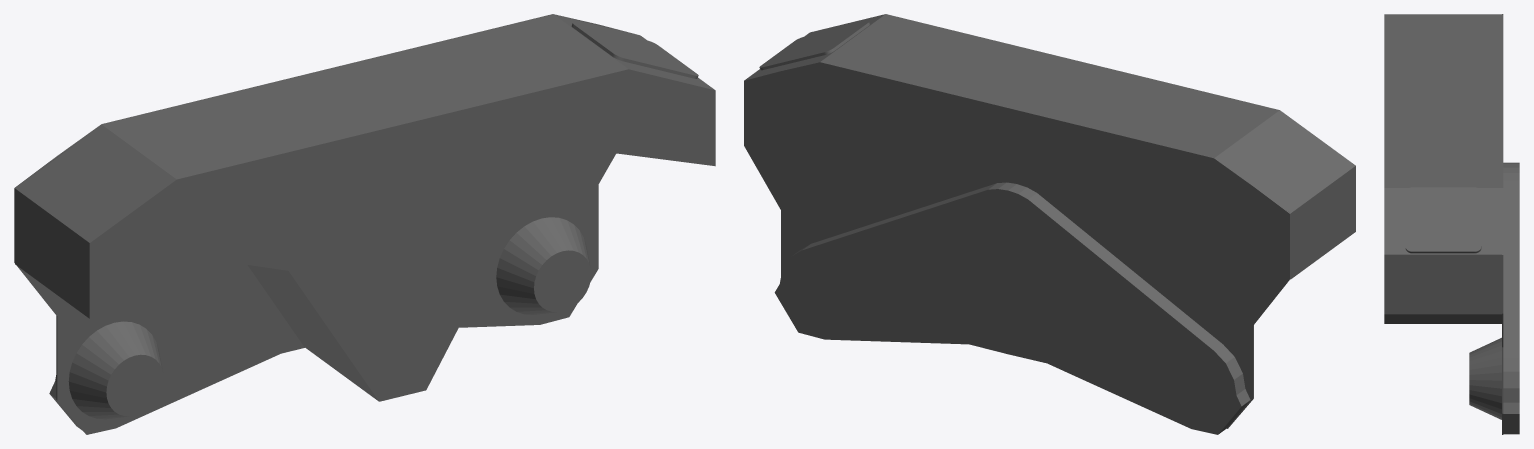
Rendered from WHog_Fender_Left_corr.gltf.
The picture shows the model from 3 angles, left to right: view 1: azimuth 30°, elevation 25°; view 2: azimuth 150°, elevation 25°; view 3: azimuth 270°, elevation 25°; orthographic projection. The views are drawn at different scales.
Visible parts, largest first — view 1: WHog_Fender_Left; view 2: WHog_Fender_Left; view 3: WHog_Fender_Left.
Boxes of the visible parts, x1=… form: WHog_Fender_Left: x1=14, y1=14, x2=715, y2=434; WHog_Fender_Left: x1=744, y1=14, x2=1355, y2=434; WHog_Fender_Left: x1=1384, y1=14, x2=1519, y2=434.
Bounding box in the file's own units: 1.34 × 0.6315 × 0.3178.
1 material, 1 textured.
